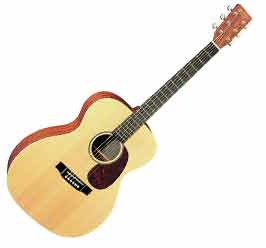guitar: (6, 3, 252, 238)
